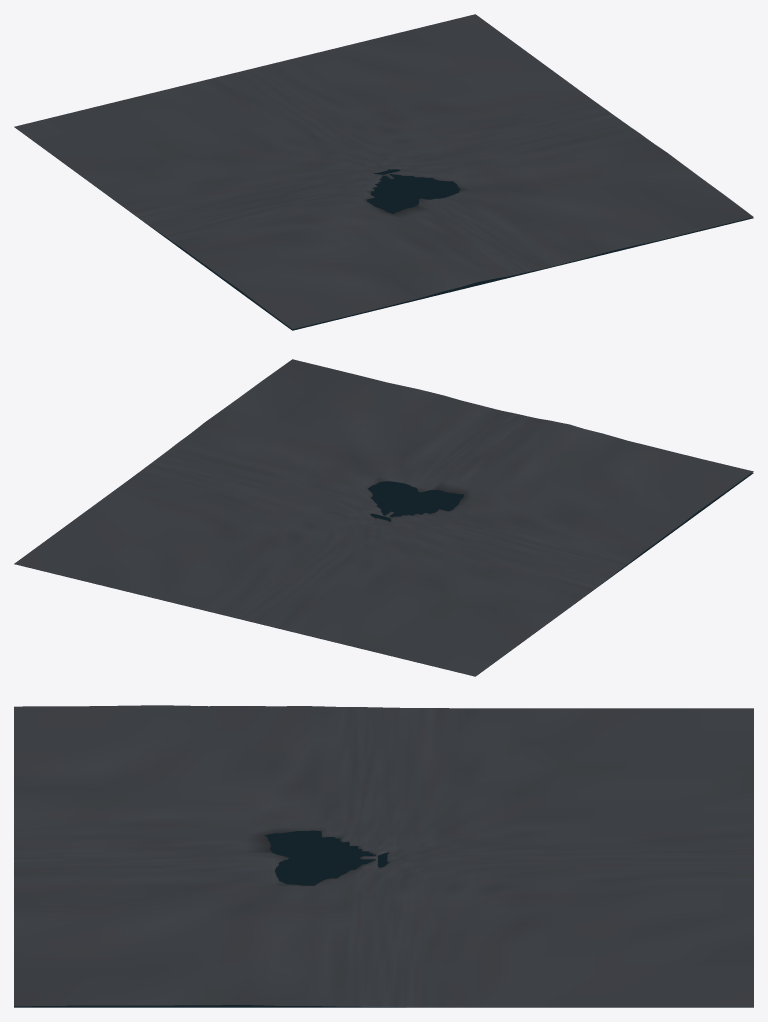
The picture shows the model from 3 angles, top to bottom: view 1: azimuth 30°, elevation 25°; view 2: azimuth 150°, elevation 25°; view 3: azimuth 270°, elevation 25°; orthographic projection. The views are drawn at different scales.
Parts seen in each view (by area): view 1: terrain-ch07.001; view 2: terrain-ch07.001; view 3: terrain-ch07.001.
Part boxes in pixels (x1,y1,x2,y2): terrain-ch07.001: (14,14,753,330); terrain-ch07.001: (14,359,753,676); terrain-ch07.001: (14,705,753,1007).
Bounding box in the file's own units: 3204 × 39.24 × 3348.
